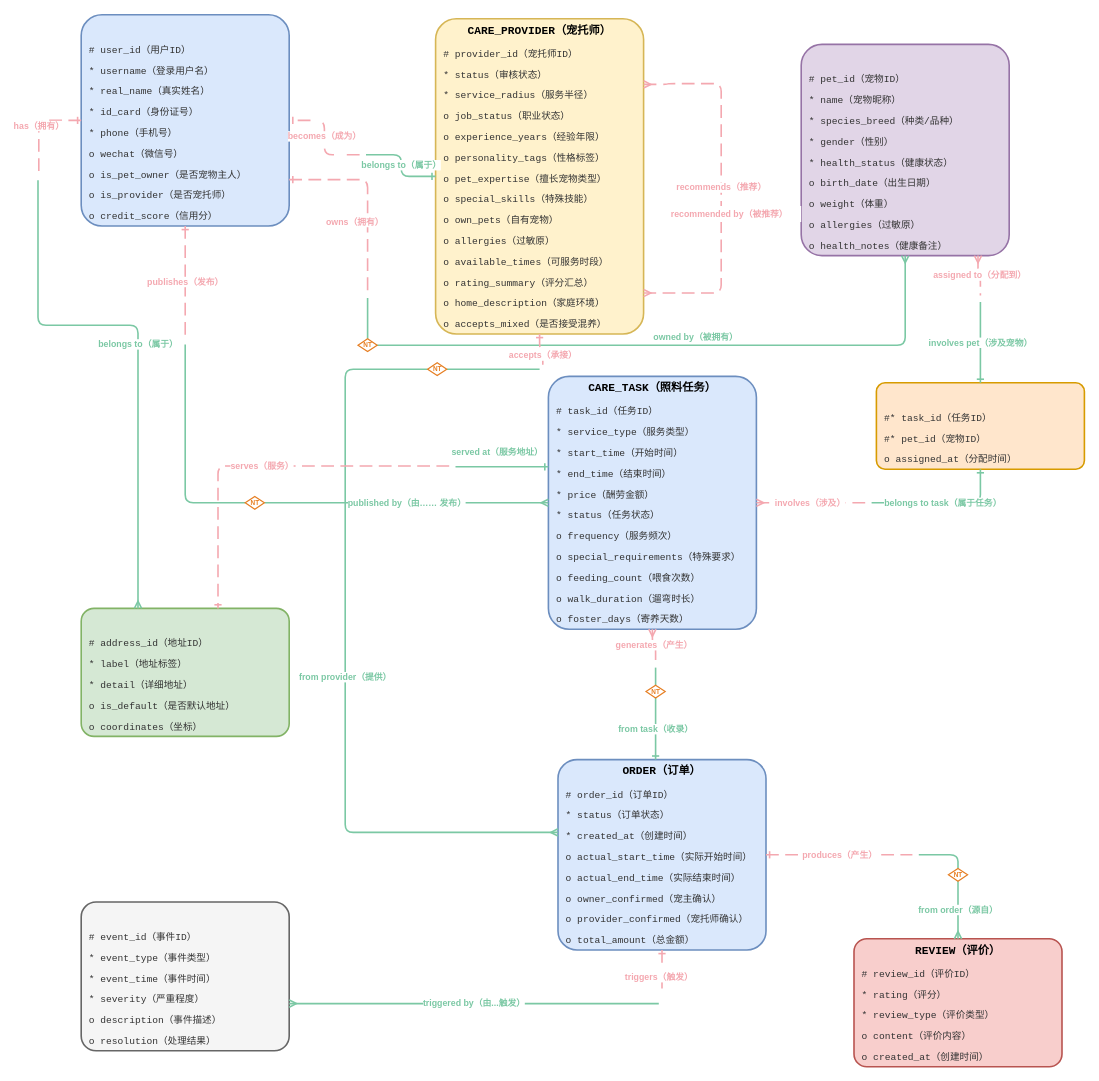
Image size: 1099x1081. Some labels were removed from this diagram. The box of each missing label's shape, as (x1, y1, x2, y2) in pixels:
EXCEPTION_EVENT（异常事件）: (80, 901, 290, 1051)
PET（宠物）: (800, 43, 1010, 256)
TASK_PET（任务-宠物关联）: (875, 382, 1085, 470)
USER_ADDRESS（用户地址）: (80, 607, 290, 737)
USER（用户）: (80, 14, 290, 226)
